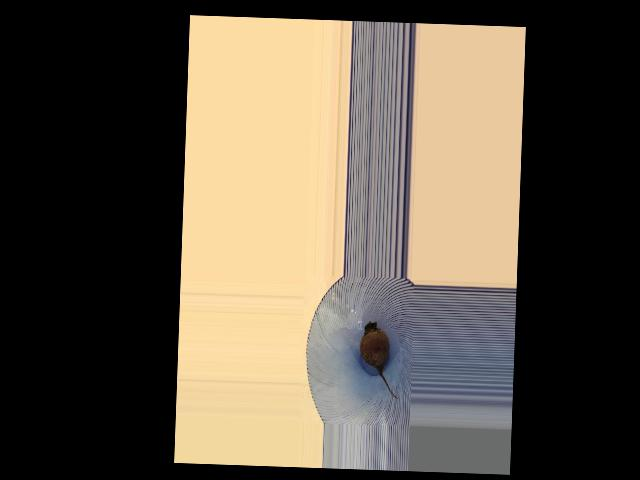beet: (358, 321, 400, 398)
